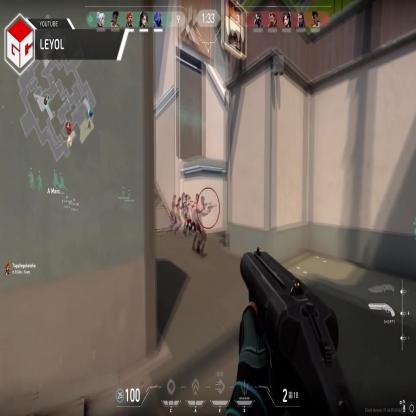enemy: (193, 194, 205, 255), (170, 194, 180, 236), (183, 193, 192, 232)
enemy_head: (185, 195, 190, 202), (196, 194, 199, 203), (173, 195, 176, 200)
